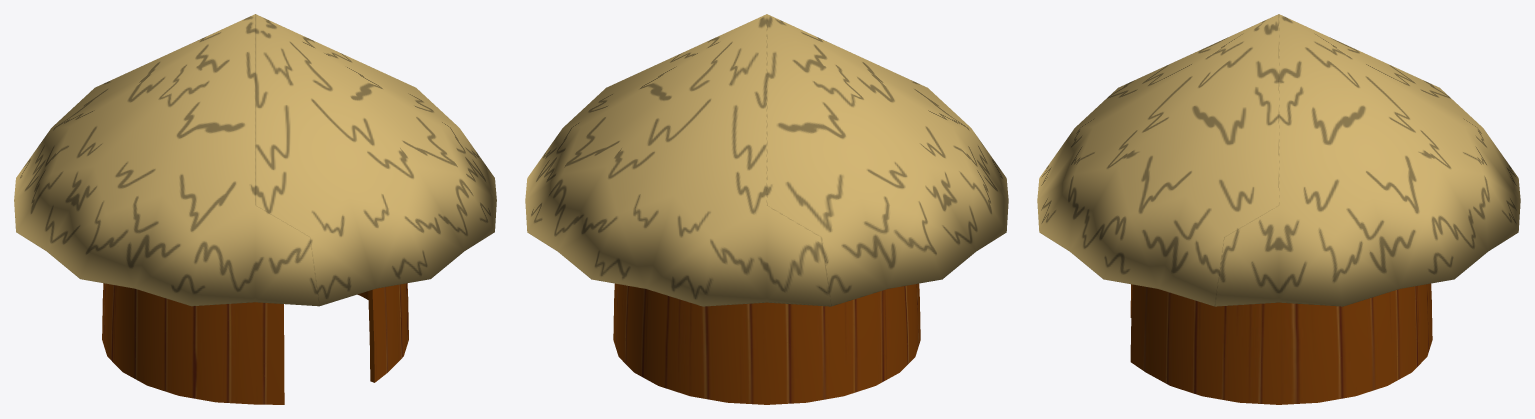
The model's file is Oca_Inteira_Pequena.fbx.
3 renders of one model, left to right at view 1: azimuth 30°, elevation 25°; view 2: azimuth 150°, elevation 25°; view 3: azimuth 270°, elevation 25°, orthographic.
Parts seen in each view (by area): view 1: Oca_Base_Telhado, Oca_Base; view 2: Oca_Base_Telhado, Oca_Base; view 3: Oca_Base_Telhado, Oca_Base.
Part boxes in pixels (x1,y1,x2,y2): Oca_Base_Telhado: (14,14,496,306); Oca_Base: (102,283,408,404); Oca_Base_Telhado: (525,14,1008,306); Oca_Base: (613,283,920,404); Oca_Base_Telhado: (1037,14,1520,306); Oca_Base: (1130,283,1432,404).
Size of the model in its own units: 828 by 617 by 828.
